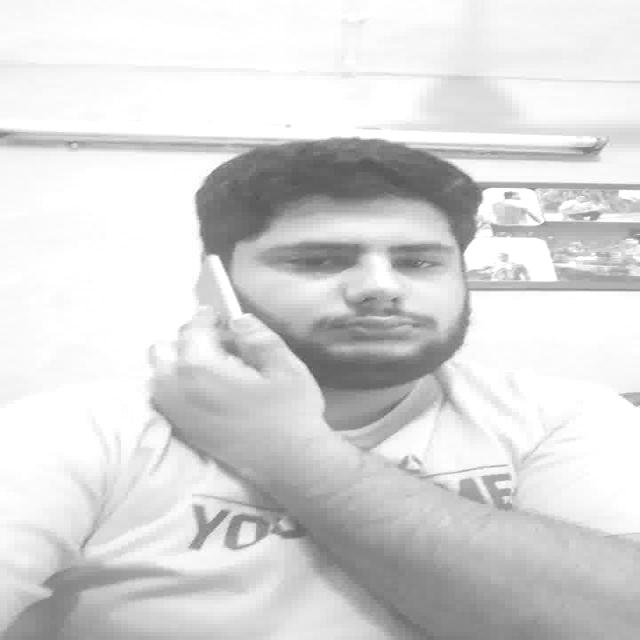fake: (194, 250, 280, 392)
real: (262, 229, 461, 280)
